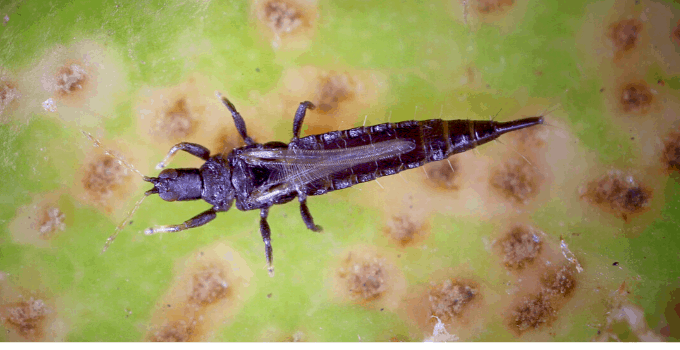Thrips: (137, 92, 557, 272)
